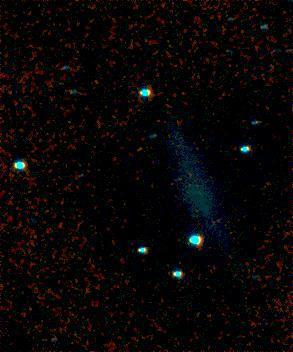star: (85, 66, 115, 96)
